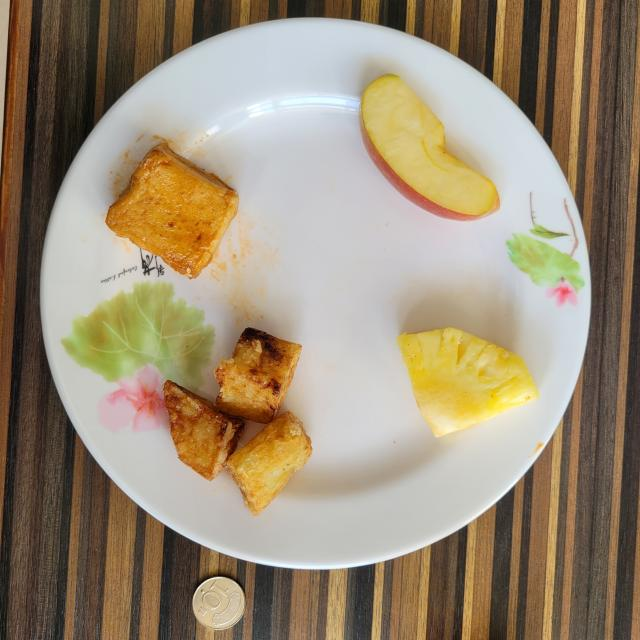apple -sliced-: (359, 74, 500, 220)
coin: (192, 576, 245, 630)
creamy tofu: (106, 142, 239, 279)
fried potato: (164, 328, 312, 515)
pineapple: (398, 328, 539, 438)
